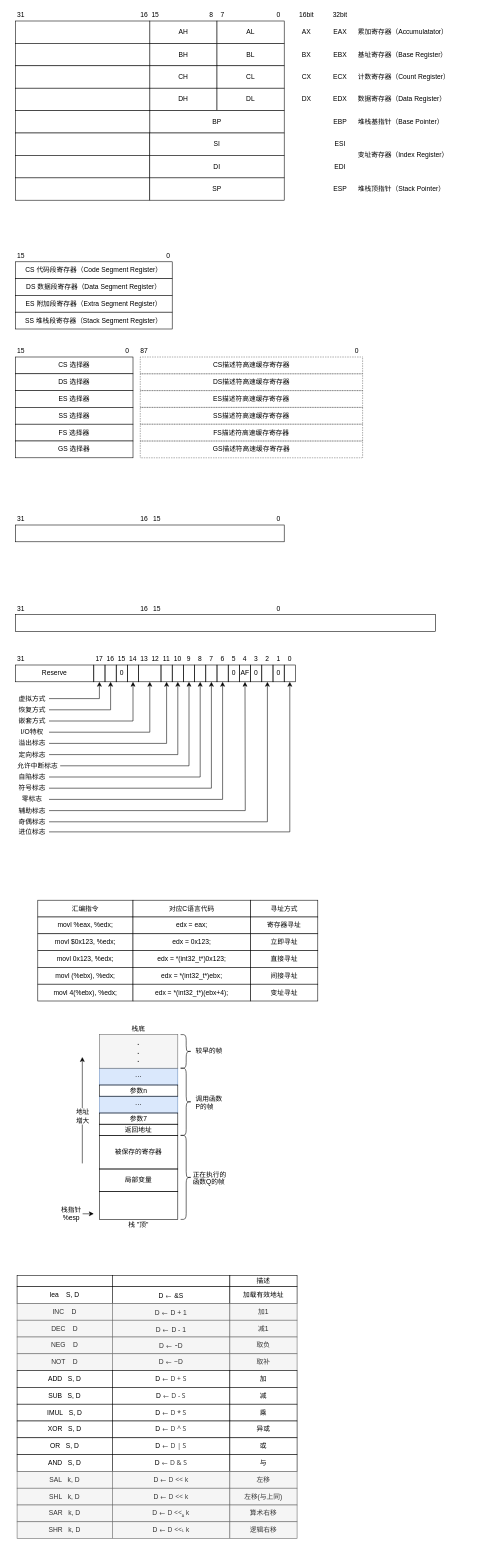
This 478x1548 diagram has some shape labels left out. Here are the shapes that lost their labels. From the top down, the box of each, then its label:
(15, 524, 284, 542): EIP 指令指针寄存器（Instruction Pointer）
(15, 614, 435, 631): EFLAGS 标志寄存器
(93, 664, 105, 682): VM
(104, 664, 116, 682): RF
(127, 664, 139, 682): NT
(138, 664, 161, 682): IOPL
(160, 664, 172, 682): OF
(172, 664, 183, 682): DF
(183, 664, 195, 682): IF
(194, 664, 206, 682): TF
(205, 664, 217, 682): SF
(216, 664, 228, 682): ZF
(261, 664, 273, 682): PF
(284, 664, 295, 682): CF
(99, 1191, 178, 1219): 参数构造区
(17, 1275, 112, 1287): 指令
(112, 1275, 230, 1287): 效果
